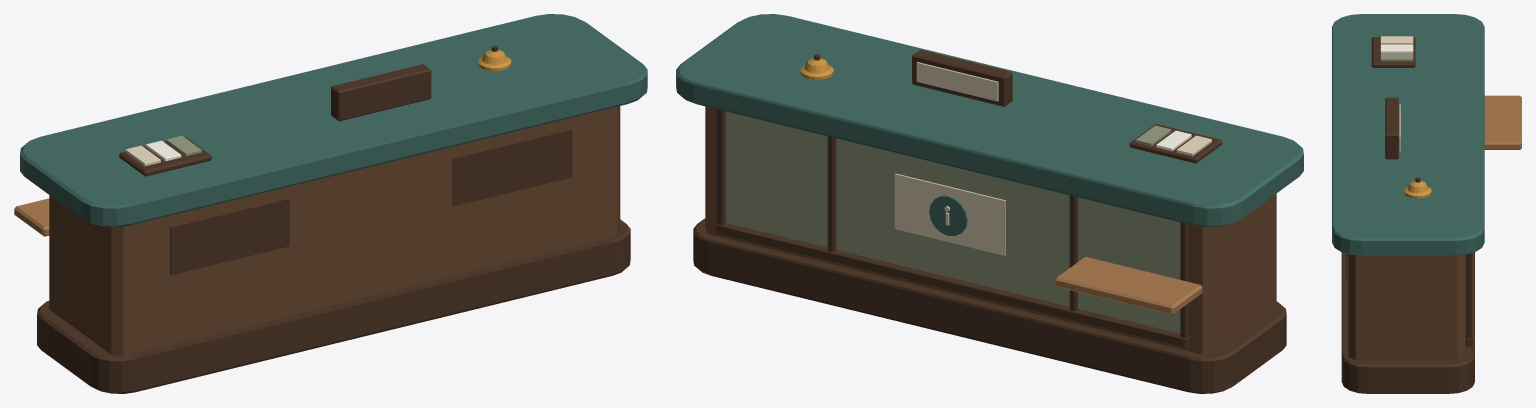
The model's file is SU_01_Information_Desk.fbx.
3 renders of one model, left to right at view 1: azimuth 30°, elevation 25°; view 2: azimuth 150°, elevation 25°; view 3: azimuth 270°, elevation 25°, orthographic. The views are drawn at different scales.
Parts seen in each view (by area): view 1: SU_01_Information_Desk; view 2: SU_01_Information_Desk; view 3: SU_01_Information_Desk.
Part boxes in pixels (x1,y1,x2,y2): SU_01_Information_Desk: (14,14,647,393); SU_01_Information_Desk: (676,14,1303,393); SU_01_Information_Desk: (1332,14,1521,393).
Bounding box in the file's own units: 3.3 × 1.17 × 1.27.
